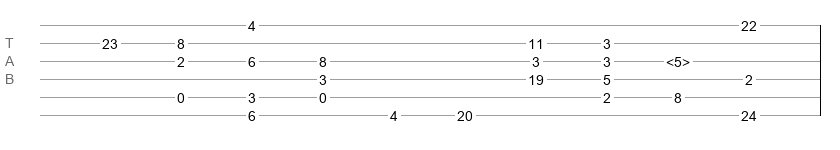0: (177, 90, 185, 100), (319, 90, 327, 100)
11: (528, 36, 544, 46)
19: (528, 72, 544, 82)
2: (177, 54, 185, 64), (603, 90, 611, 100), (745, 72, 753, 82)
20: (457, 108, 473, 118)
22: (741, 18, 757, 28)
23: (102, 36, 118, 46)
24: (741, 108, 757, 118)
3: (248, 90, 256, 100), (319, 72, 327, 82), (532, 54, 540, 64), (603, 36, 611, 46), (603, 54, 611, 64)
4: (248, 18, 256, 28), (390, 108, 398, 118)
5: (603, 72, 611, 82)
6: (248, 54, 256, 64), (248, 108, 256, 118)
8: (177, 36, 185, 46), (319, 54, 327, 64), (674, 90, 682, 100)
harmonic: (666, 54, 690, 64)
